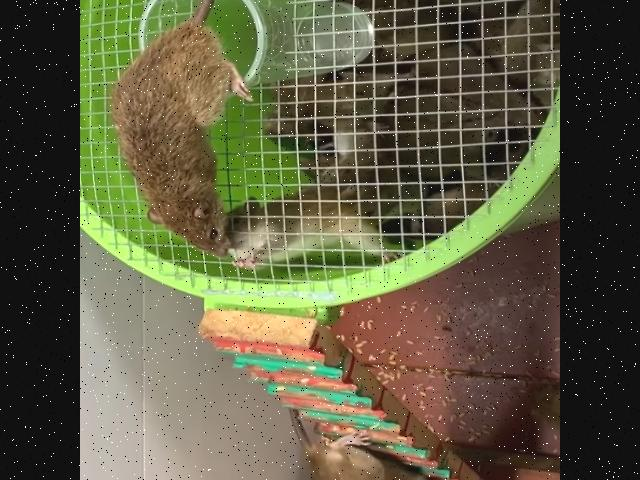Tikus: (110, 0, 284, 256), (226, 186, 398, 272), (308, 432, 440, 480)
